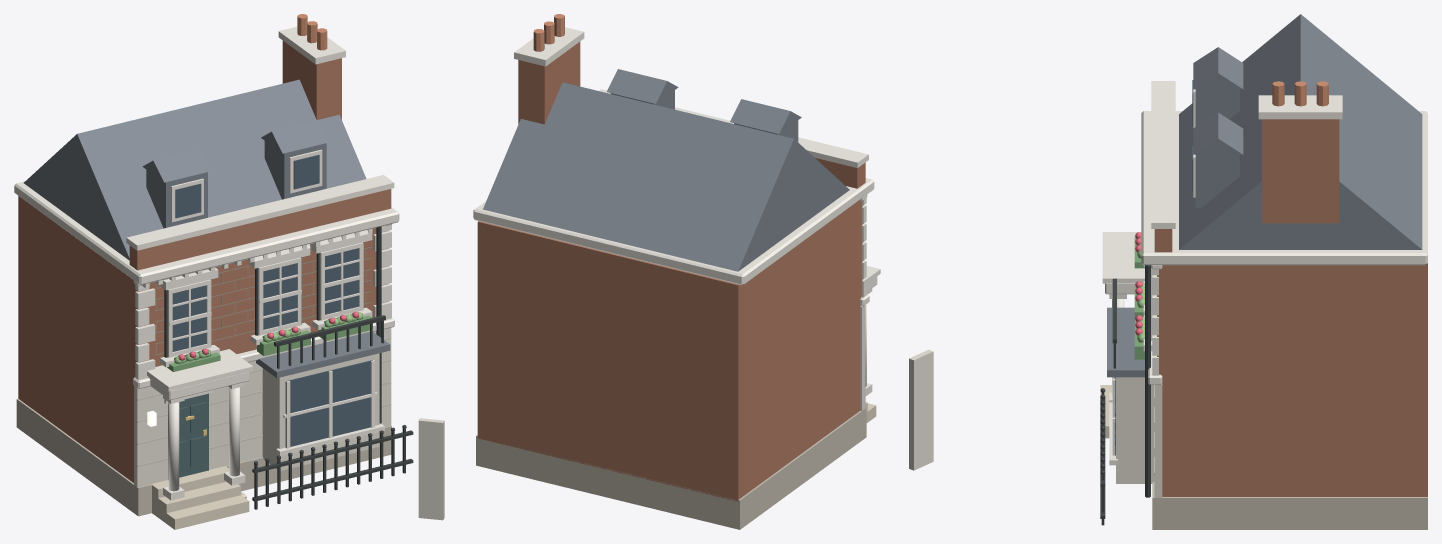
File: terrace-b-2.glb
3 renders of one model, left to right at view 1: azimuth 30°, elevation 25°; view 2: azimuth 150°, elevation 25°; view 3: azimuth 270°, elevation 25°, orthographic. The views are drawn at different scales.
Parts seen in each view (by area): view 1: terrace-b-2; view 2: terrace-b-2; view 3: terrace-b-2.
Boxes of the visible parts, left/top/right/bottom form: terrace-b-2: left=14, top=14, right=444, bottom=529; terrace-b-2: left=473, top=14, right=880, bottom=529; terrace-b-2: left=909, top=14, right=1427, bottom=529.
Size of the model in its own units: 3.08 by 4.37 by 4.69.
